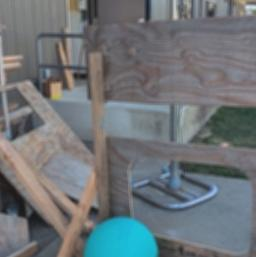algae: (86, 216, 162, 257)
